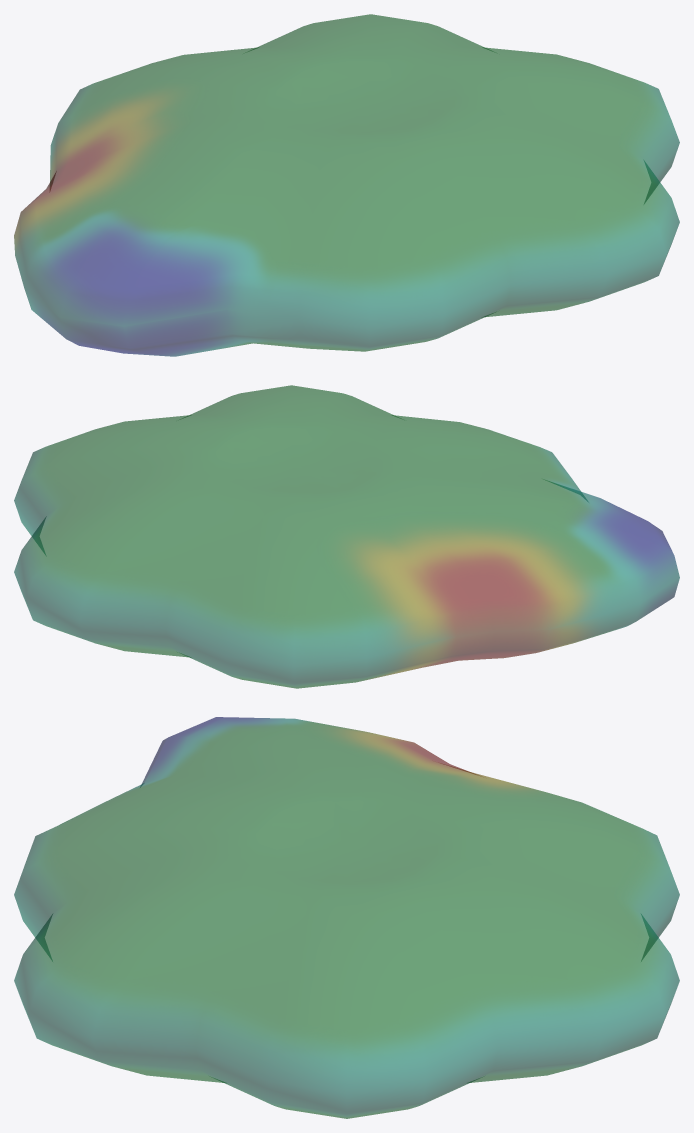
Rendered from Map.gltf.
3 renders of one model, top to bottom at view 1: azimuth 30°, elevation 25°; view 2: azimuth 150°, elevation 25°; view 3: azimuth 270°, elevation 25°, orthographic. The views are drawn at different scales.
Visible parts, largest first — view 1: phenol_Map; view 2: phenol_Map; view 3: phenol_Map.
Part boxes in pixels (x1,y1,x2,y2): phenol_Map: (14, 14, 679, 356); phenol_Map: (14, 385, 679, 688); phenol_Map: (14, 717, 679, 1118).
Size of the model in its own units: 1.89 by 0.463 by 1.52.
1 material, 1 textured.
